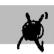not correct: (16, 11, 50, 53)
